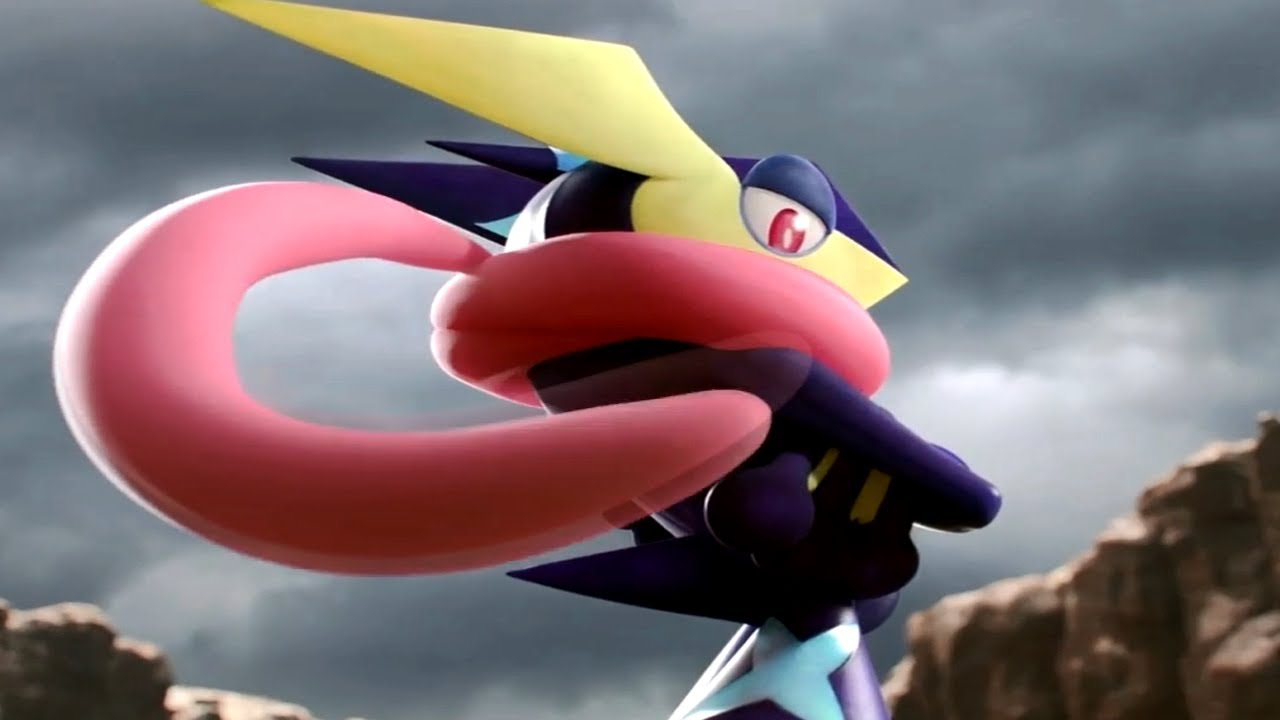greninja: (59, 1, 1009, 720)
